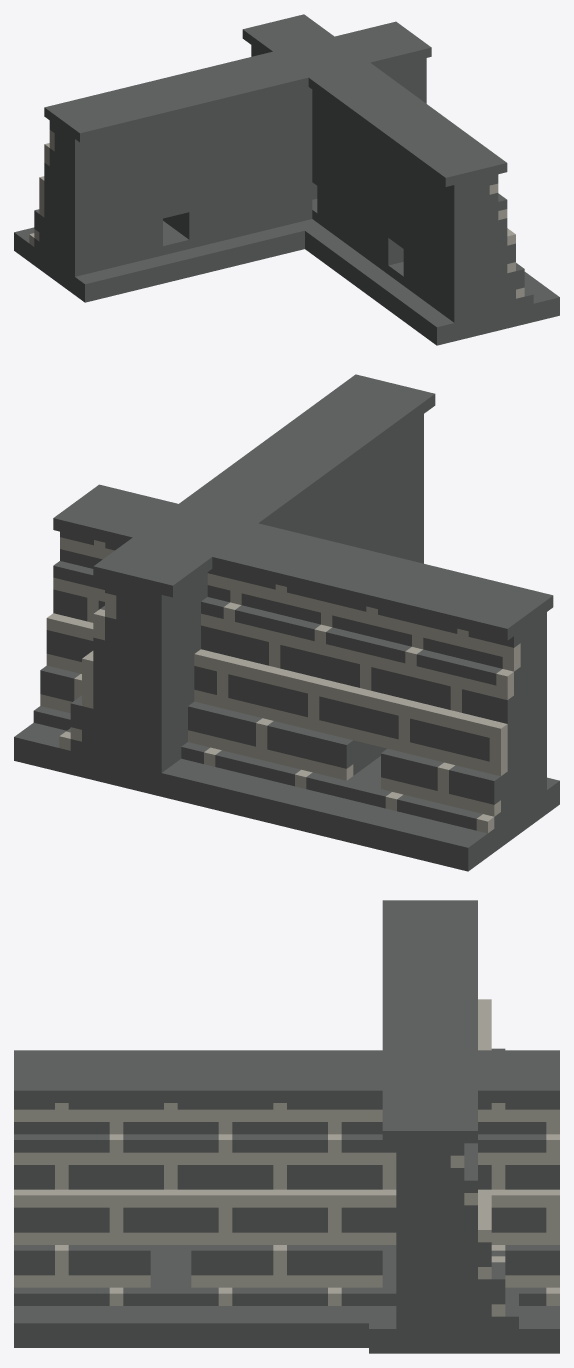
3 views of the same model, one above another, from view 1: azimuth 30°, elevation 25°; view 2: azimuth 150°, elevation 25°; view 3: azimuth 270°, elevation 25° (orthographic). The views are drawn at different scales.
Visible parts, largest first — view 1: 挡墙转角高差与端头族; view 2: 挡墙转角高差与端头族; view 3: 挡墙转角高差与端头族.
Part boxes in pixels (left/top/right/bottom): 挡墙转角高差与端头族: left=14, top=14, right=559, bottom=345; 挡墙转角高差与端头族: left=14, top=374, right=559, bottom=871; 挡墙转角高差与端头族: left=14, top=900, right=559, bottom=1353.
Bounding box in the file's own units: 8 × 3.6 × 8.
2 materials, 2 textured.
